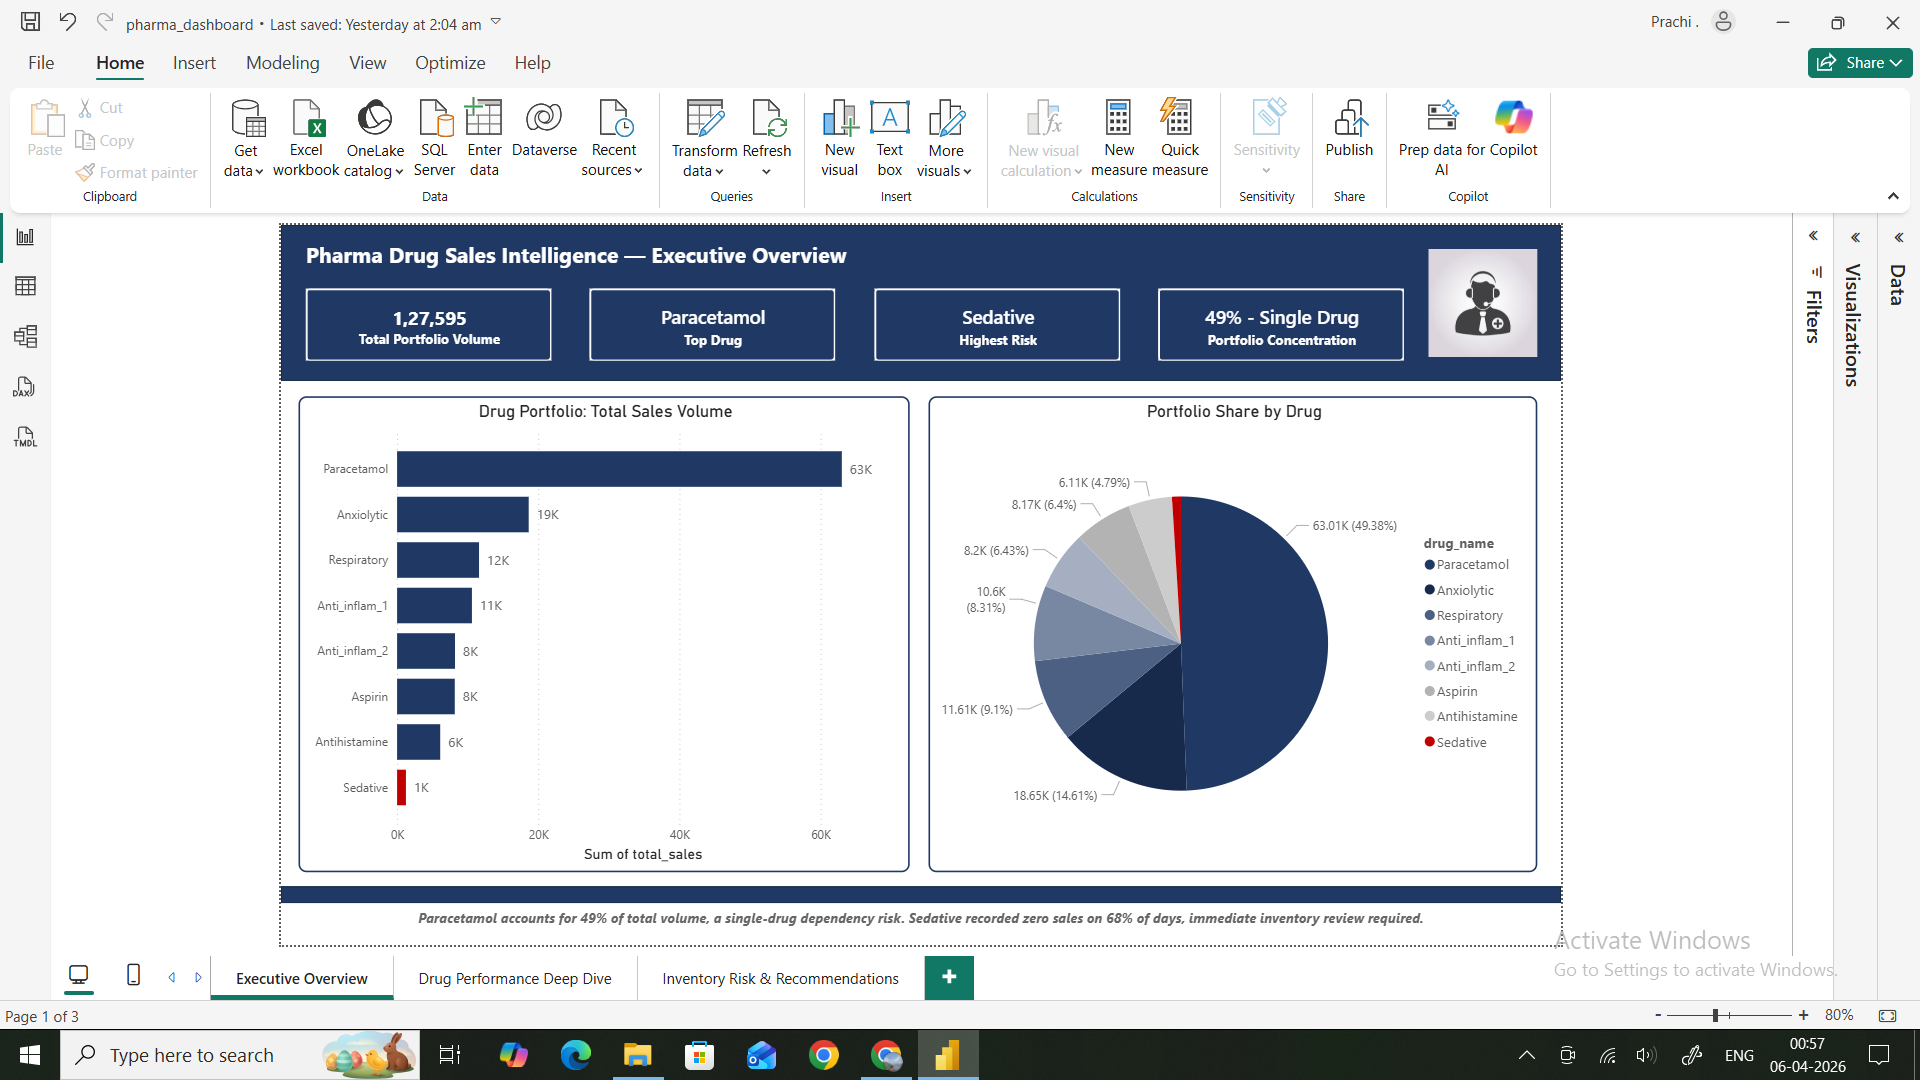

The dashboard page shown, as its layout file describes it:
{"tool":"powerbi","page":{"name":"Executive Overview","canvas":[1280,720],"ordinal":0},"visuals":[{"type":"shape","box":[0,0,1280,156.2],"z":0},{"type":"textbox","box":[20,10,1236.2,40],"z":1000},{"type":"cardVisual","fields":{"Data":["Sum(drug_profile.total_sales)"]},"box":[20,58.8,255,82.5],"z":2000},{"type":"clusteredBarChart","title":"Drug Portfolio: Total Sales Volume","fields":{"Category":["drug_profile.drug_name"],"Y":["Sum(drug_profile.total_sales)"]},"box":[17.5,171.2,611.2,476.2],"z":4000},{"type":"pieChart","title":"Portfolio Share by Drug","fields":{"Y":["Sum(drug_profile.total_sales)"],"Category":["drug_profile.drug_name"]},"box":[647.5,171.2,608.8,476.2],"z":5000},{"type":"textbox","box":[0,678.6,1280,41.4],"z":6000},{"type":"shape","box":[0,661.4,1280,17.1],"z":7000},{"type":"cardVisual","fields":{"Data":["drug_profile.Top Drug"]},"box":[304.2,58.8,255,82.5],"z":9001},{"type":"cardVisual","fields":{"Data":["drug_profile.Highest Risk"]},"box":[588.3,58.8,255,82.5],"z":9002},{"type":"cardVisual","fields":{"Data":["drug_profile.Portfolio Concentration"]},"box":[872.5,58.8,255,82.5],"z":9003},{"type":"image","box":[1147.5,0,108.8,156.2],"z":9004}]}

Visuals, with their boxes on the page's 1280x720 design canvas (x1, y1, x2, y2). These are canvas units, not pixel positions in the 1920x1080 screenshot, which may show the page scaled, cropped or inside an application window:
shape: 0/0/1280/156
textbox: 20/10/1256/50
cardVisual - Sum(drug_profile.total_sales): 20/59/275/141
"Drug Portfolio: Total Sales Volume" clusteredBarChart: 18/171/629/647
"Portfolio Share by Drug" pieChart: 648/171/1256/647
textbox: 0/679/1280/720
shape: 0/661/1280/678
cardVisual - drug_profile.Top Drug: 304/59/559/141
cardVisual - drug_profile.Highest Risk: 588/59/843/141
cardVisual - drug_profile.Portfolio Concentration: 872/59/1128/141
image: 1148/0/1256/156
